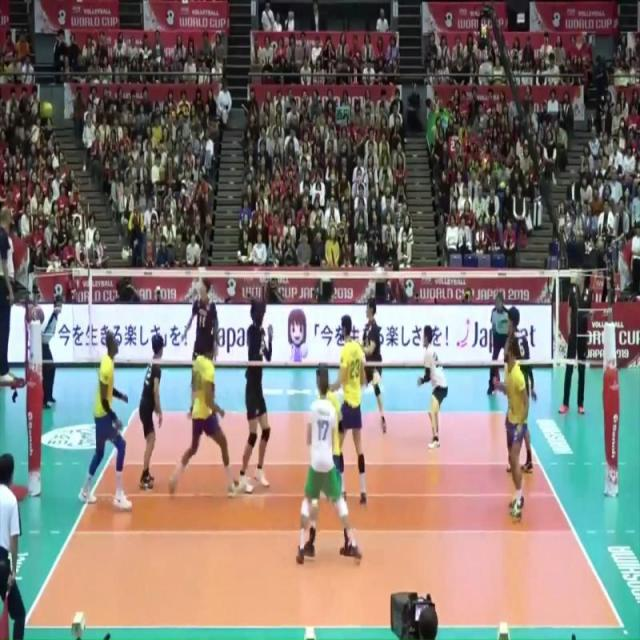volleyball: (40, 99, 53, 121)
